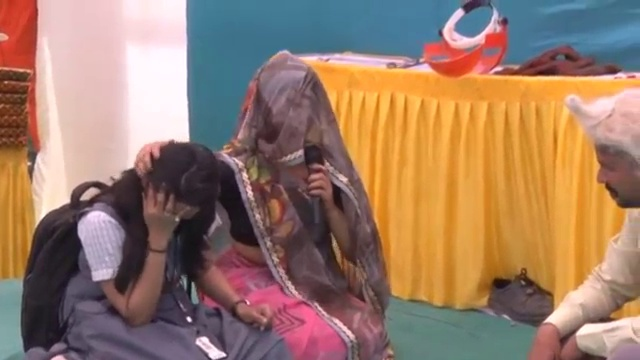helmet_off: (244, 53, 333, 168), (567, 88, 640, 210), (131, 143, 227, 221)
person: (0, 144, 308, 360), (210, 47, 393, 359), (530, 81, 640, 358)
